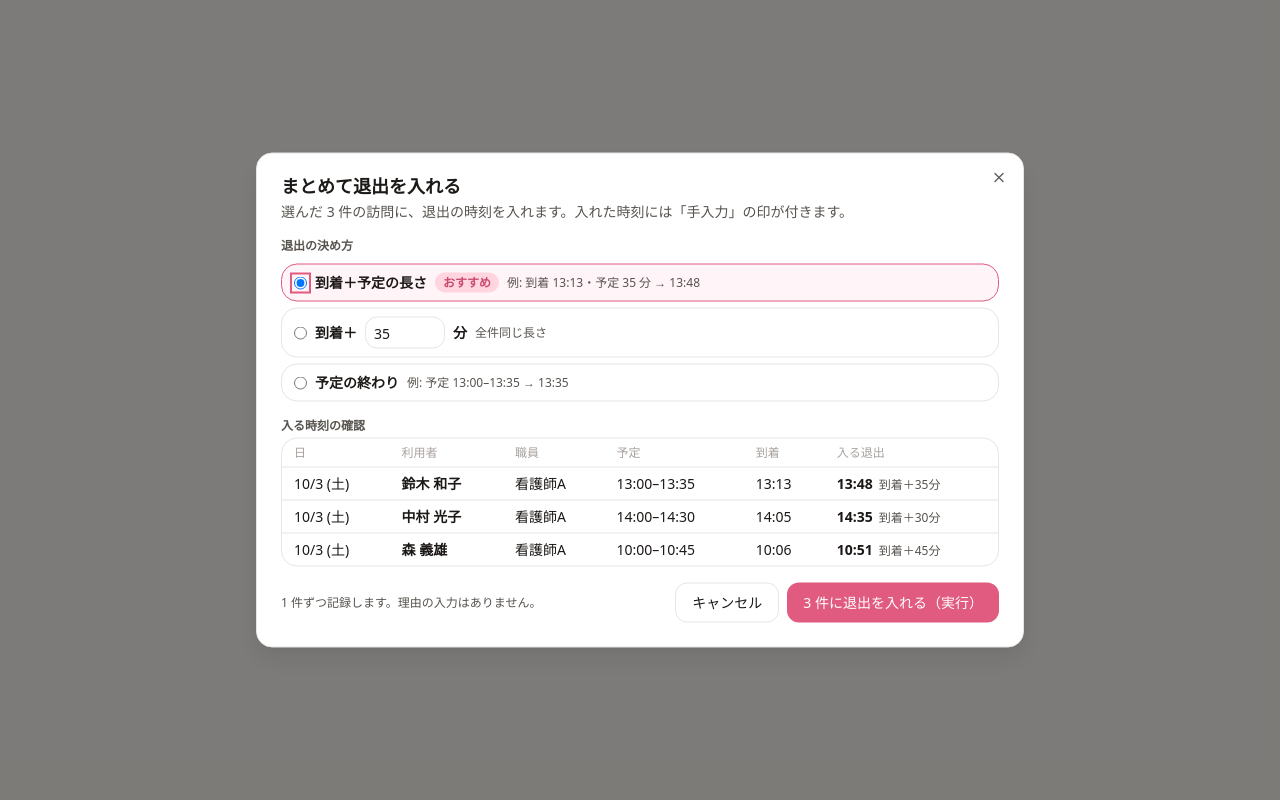
Test: BulkDepartureDialog › 実行は 1 件ずつ順番に PUT し、失敗は理由つきで残す
Click the button with test id "history-bulk-run".
click(893, 602)  # box [787,582,999,622]
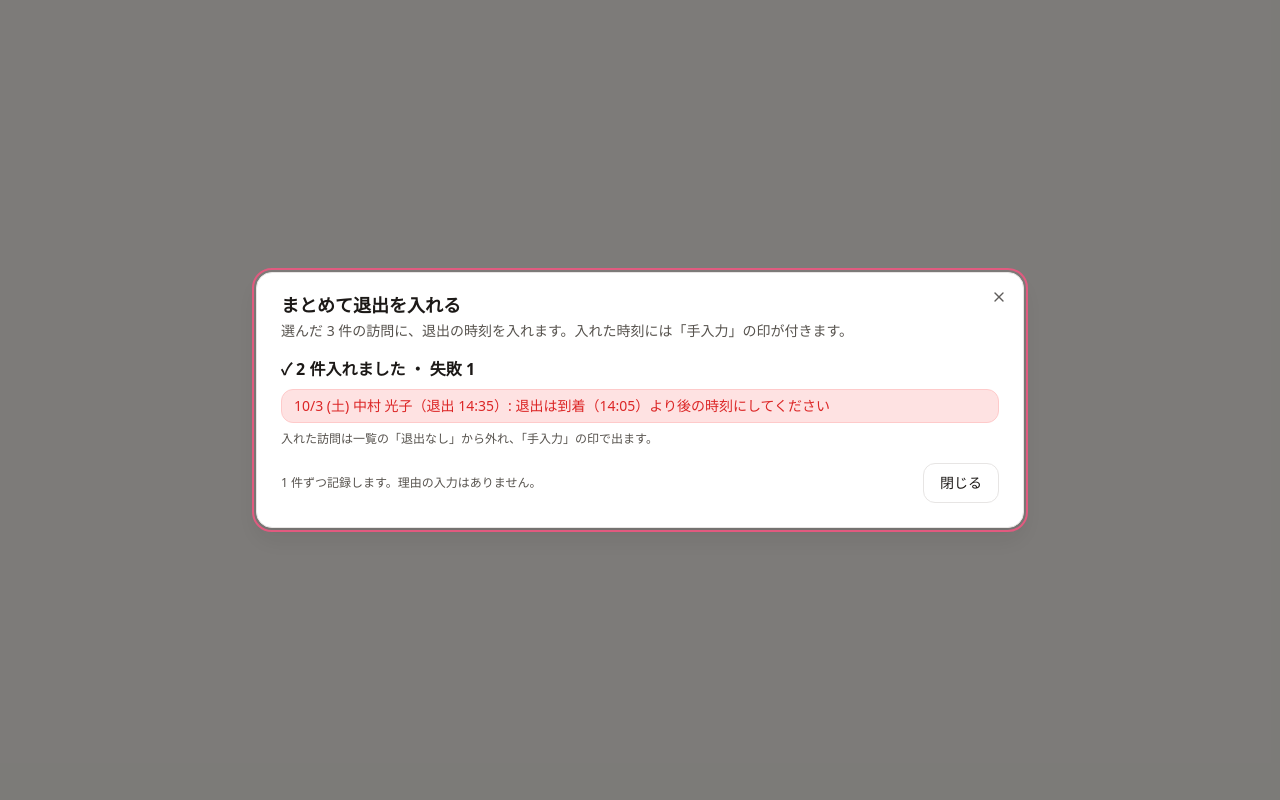
Now the text with test id "history-bulk-summary" shows "2 件入れました ・ 失敗 1", box [281,358,475,380]
Now the list item with test id "history-bulk-failure-v-2" shows "中村 光子（退出 14:35）: 退出は到着（14:05）より後の時刻にしてください", box [281,389,999,423]
Now the button "閉じる" is shown, box [923,463,999,503]
